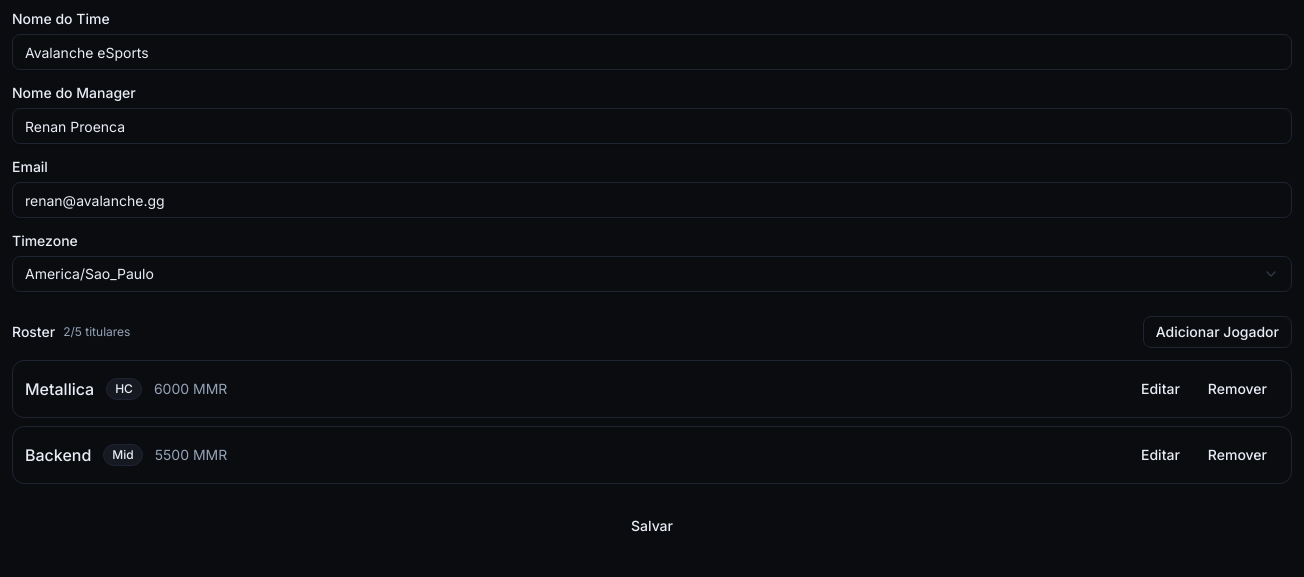
Test: TeamEditForm › shows validation error when name is cleared
The image size is (1304, 577).
Clear the field labelled "Nome do Time" at [652, 52], box [12,34,1292,70]
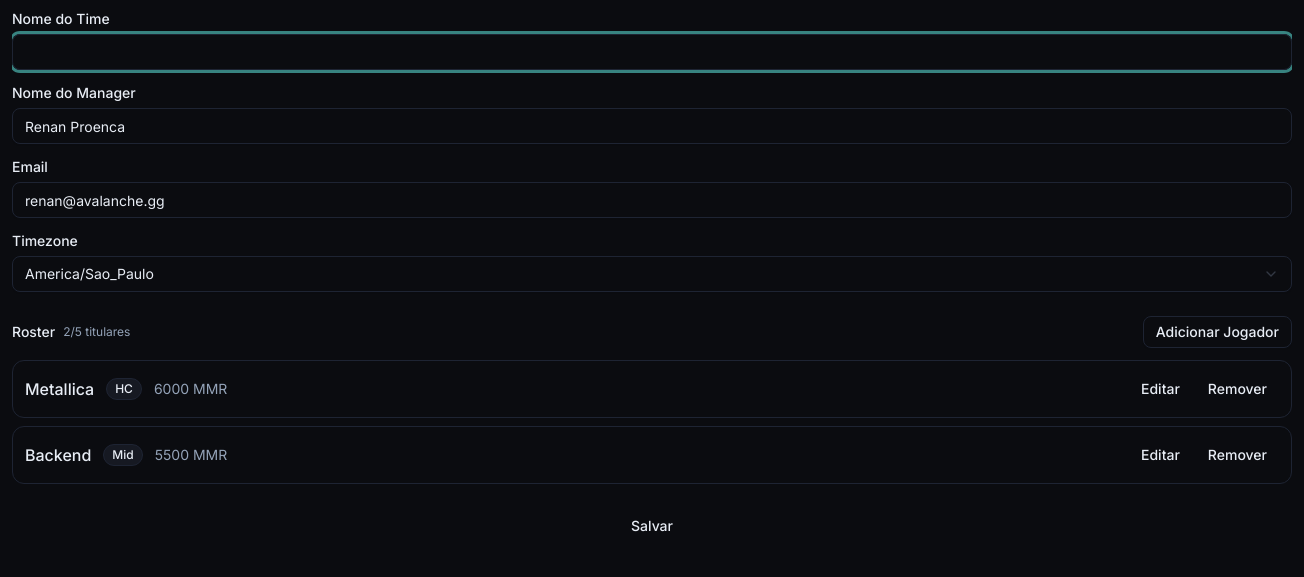
Click the button "Salvar" at [652, 526], box [12,508,1292,544]
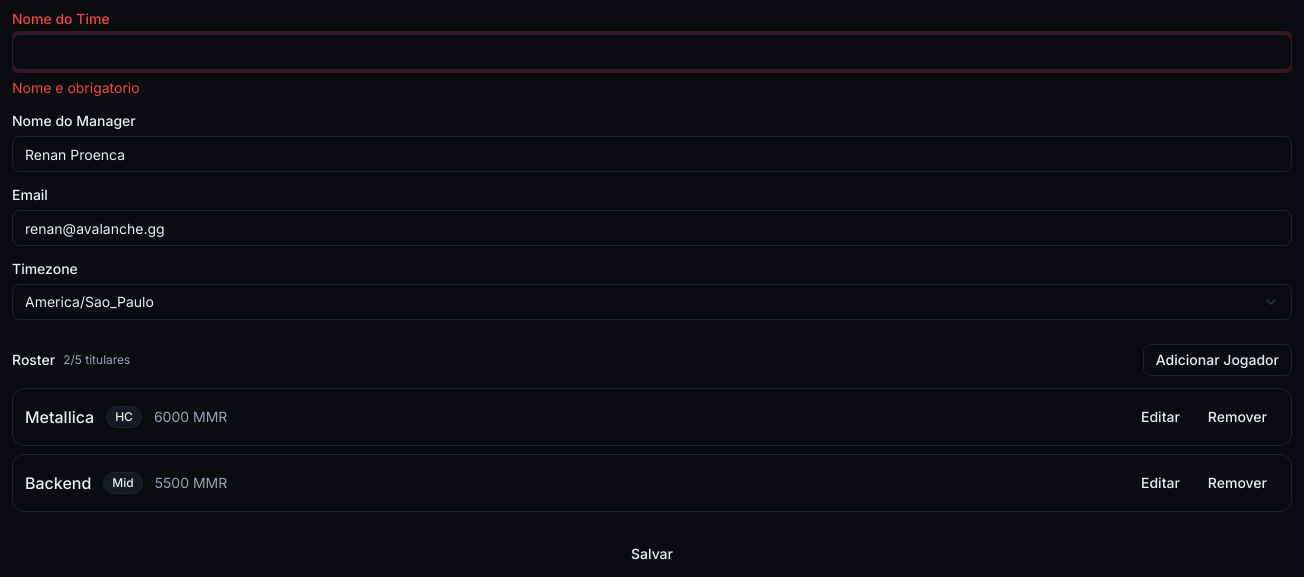
Expected: the text "Nome e obrigatorio" is shown, [12,79,140,96]
